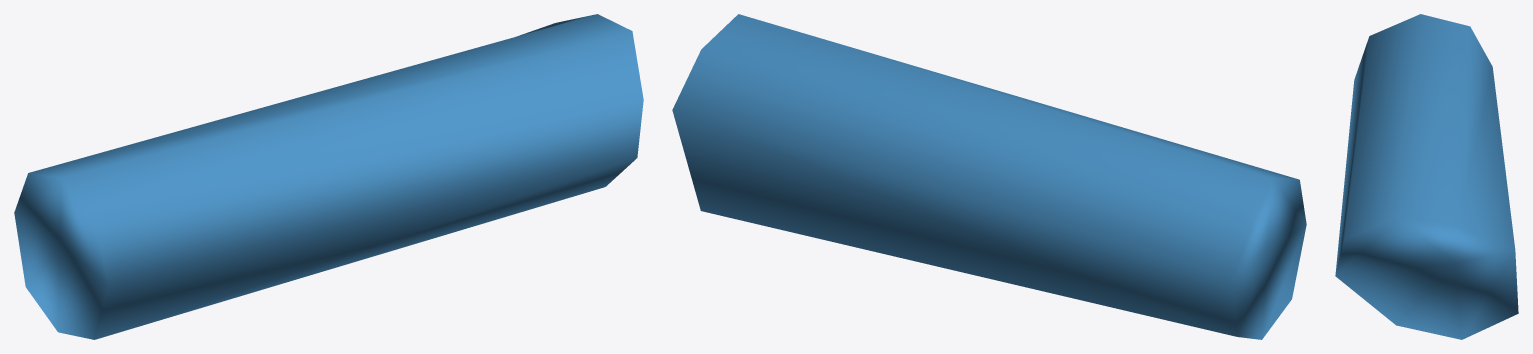
The model's file is Driver_Arm_01A.fbx.
3 views of the same model, side by side, from view 1: azimuth 30°, elevation 25°; view 2: azimuth 150°, elevation 25°; view 3: azimuth 270°, elevation 25° (orthographic). The views are drawn at different scales.
Parts seen in each view (by area): view 1: Driver_Arm_01A; view 2: Driver_Arm_01A; view 3: Driver_Arm_01A.
Part boxes in pixels (bbox=[...]): Driver_Arm_01A: bbox=[14, 14, 643, 339]; Driver_Arm_01A: bbox=[672, 14, 1306, 339]; Driver_Arm_01A: bbox=[1335, 14, 1518, 339].
Bounding box in the file's own units: 33.74 × 10.42 × 11.79.
